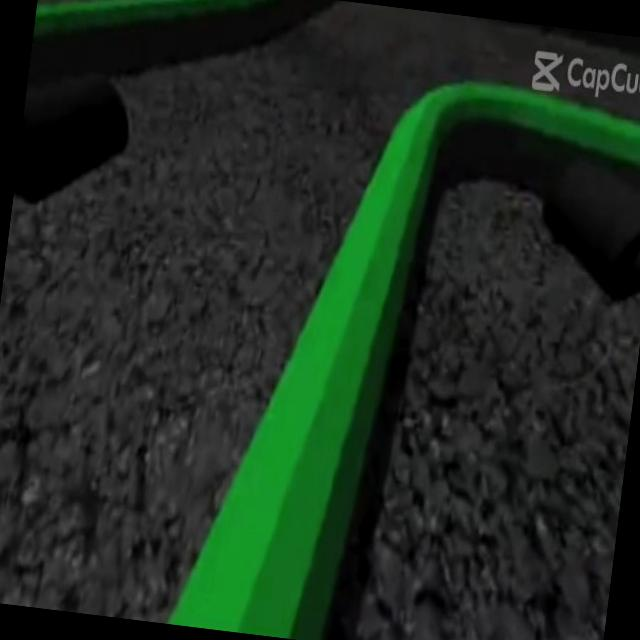gas: (164, 50, 550, 640)
